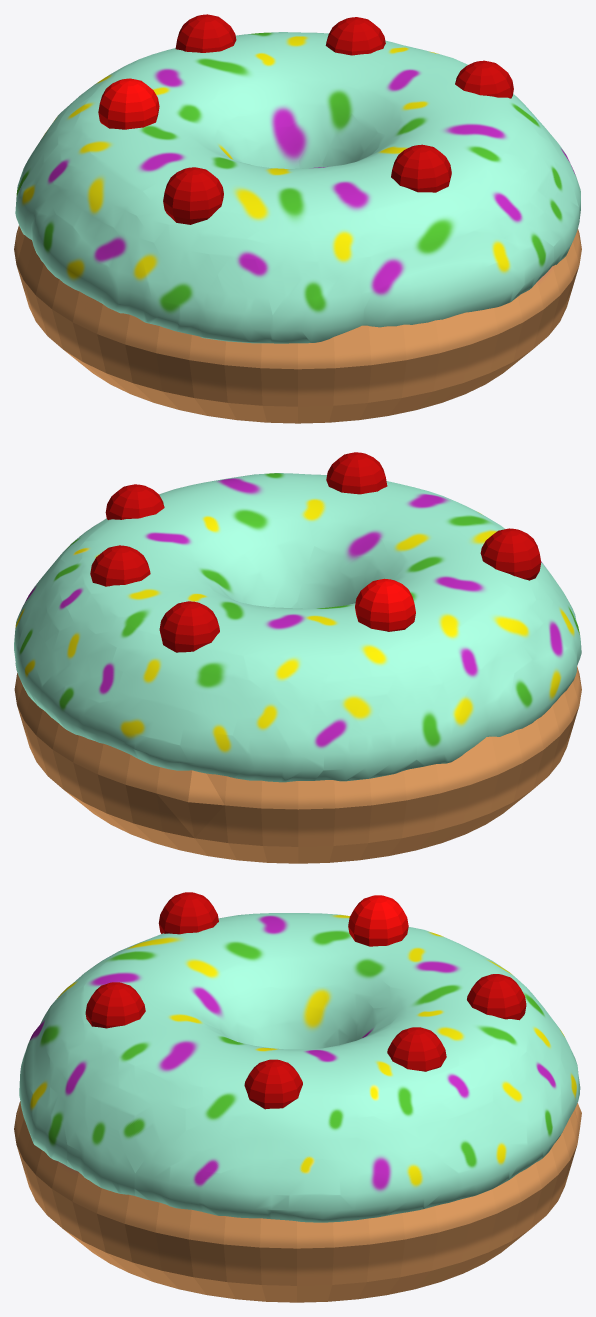
The model's file is donut.dae.
3 views of the same model, one above another, from view 1: azimuth 30°, elevation 25°; view 2: azimuth 150°, elevation 25°; view 3: azimuth 270°, elevation 25° (orthographic).
Parts seen in each view (by area): view 1: Liquid, Torus-001, Sphere-001, Sphere, Sphere-002, Sphere-004, Sphere-005, Sphere-003; view 2: Liquid, Torus-001, Sphere, Sphere-004, Sphere-001, Sphere-002, Sphere-005, Sphere-003; view 3: Liquid, Torus-001, Sphere, Sphere-003, Sphere-002, Sphere-004, Sphere-005, Sphere-001.
Boxes of the visible parts, x1,y1,x2,y2 form: Liquid: (15,32,580,343); Torus-001: (14,225,581,423); Sphere-001: (163,167,223,224); Sphere: (98,78,159,129); Sphere-002: (391,144,451,192); Sphere-004: (175,14,236,52); Sphere-005: (325,17,385,55); Sphere-003: (455,60,513,98); Liquid: (14,473,581,782); Torus-001: (14,666,581,863); Sphere: (355,578,415,631); Sphere-004: (159,601,219,652); Sphere-001: (480,528,541,580); Sphere-002: (326,452,387,494); Sphere-005: (90,545,150,586); Sphere-003: (105,484,164,519); Liquid: (19,913,580,1222); Torus-001: (14,1101,581,1302); Sphere: (348,895,408,946); Sphere-003: (244,1059,302,1109); Sphere-002: (85,982,145,1028); Sphere-004: (467,974,526,1020); Sphere-005: (387,1027,446,1071); Sphere-001: (158,892,218,934).
Size of the model in its own units: 3 by 1.49 by 3.01.
Materials: 8 (3 with a texture image).
